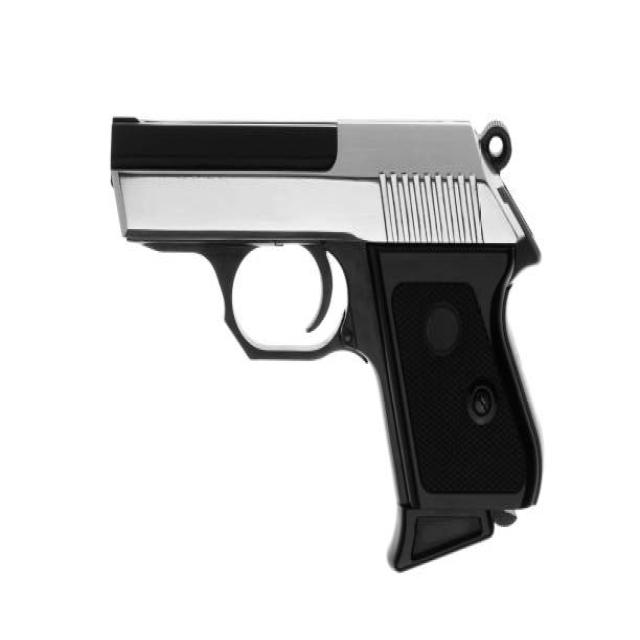pistol: (101, 105, 550, 584)
